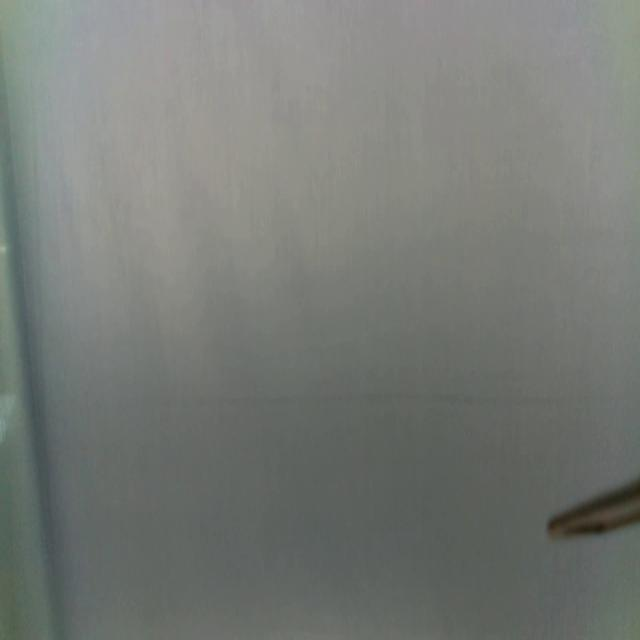color bleeding: (0, 384, 640, 416)
